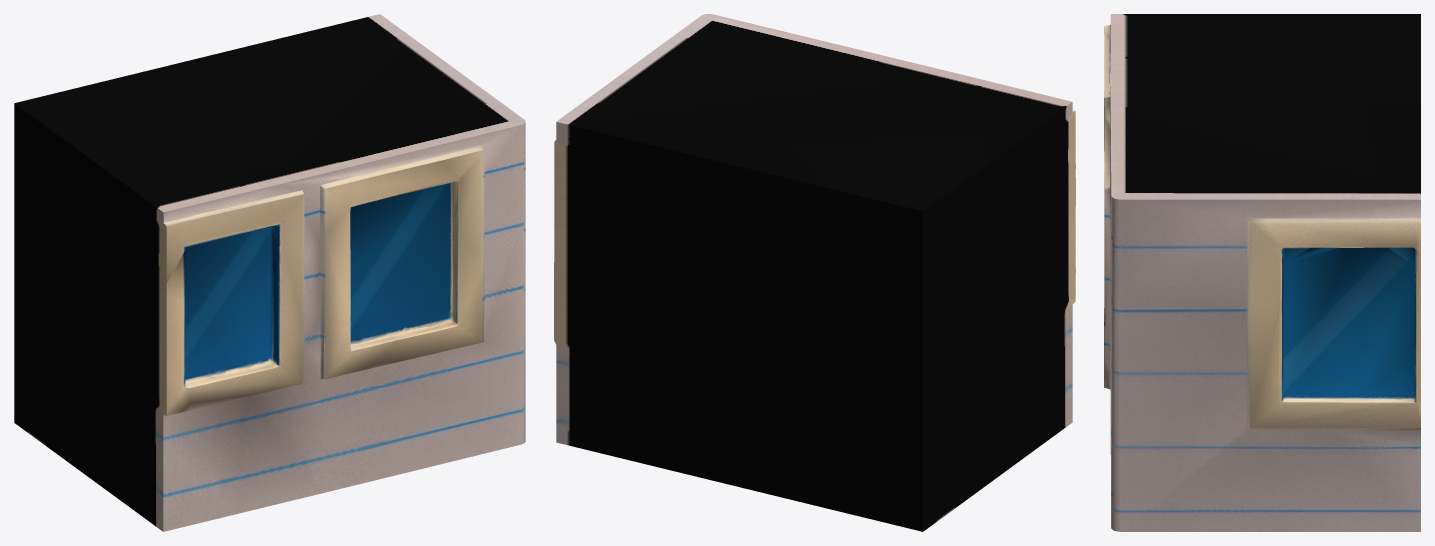
Rendered from 6-upper-walls-front-right.fbx.
3 views of the same model, side by side, from view 1: azimuth 30°, elevation 25°; view 2: azimuth 150°, elevation 25°; view 3: azimuth 270°, elevation 25° (orthographic). The views are drawn at different scales.
Visible parts, largest first — view 1: upper-walls-front-right; view 2: upper-walls-front-right; view 3: upper-walls-front-right.
Boxes of the visible parts, box(x1,y1,x2,y2) form: upper-walls-front-right: box(14, 14, 525, 531); upper-walls-front-right: box(554, 14, 1075, 531); upper-walls-front-right: box(1104, 14, 1420, 531).
Size of the model in its own units: 7530 by 6252 by 5401.
1 material, 1 textured.
